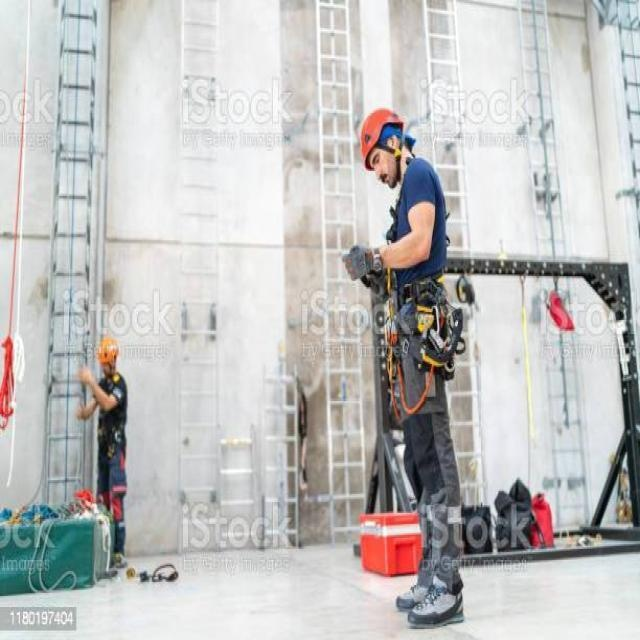Arnes_seguridad: (372, 158, 460, 396), (95, 375, 130, 461)
